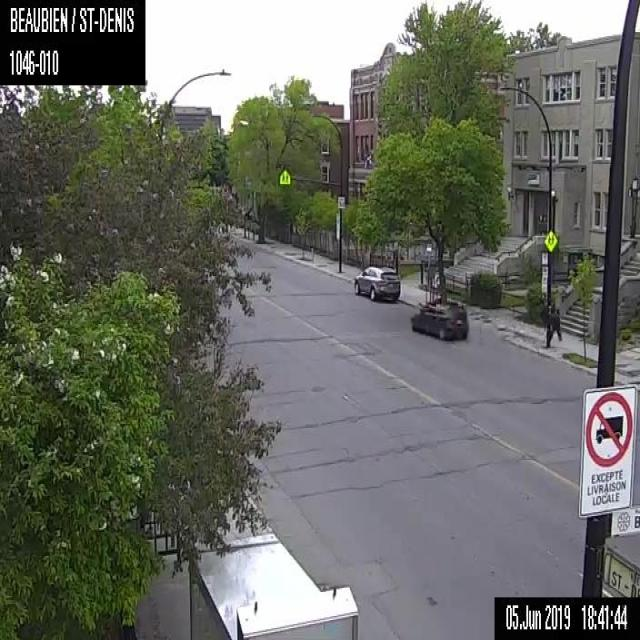pedestrian: (547, 305, 562, 343)
vehicle: (409, 299, 466, 341), (352, 263, 400, 301)
